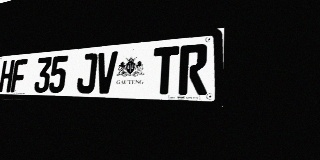3: (33, 57, 52, 93)
5: (48, 55, 68, 93)
F: (10, 59, 28, 93)
H: (0, 60, 15, 92)
J: (76, 53, 98, 93)
R: (178, 43, 208, 95)
T: (151, 46, 179, 95)
V: (95, 51, 118, 94)
